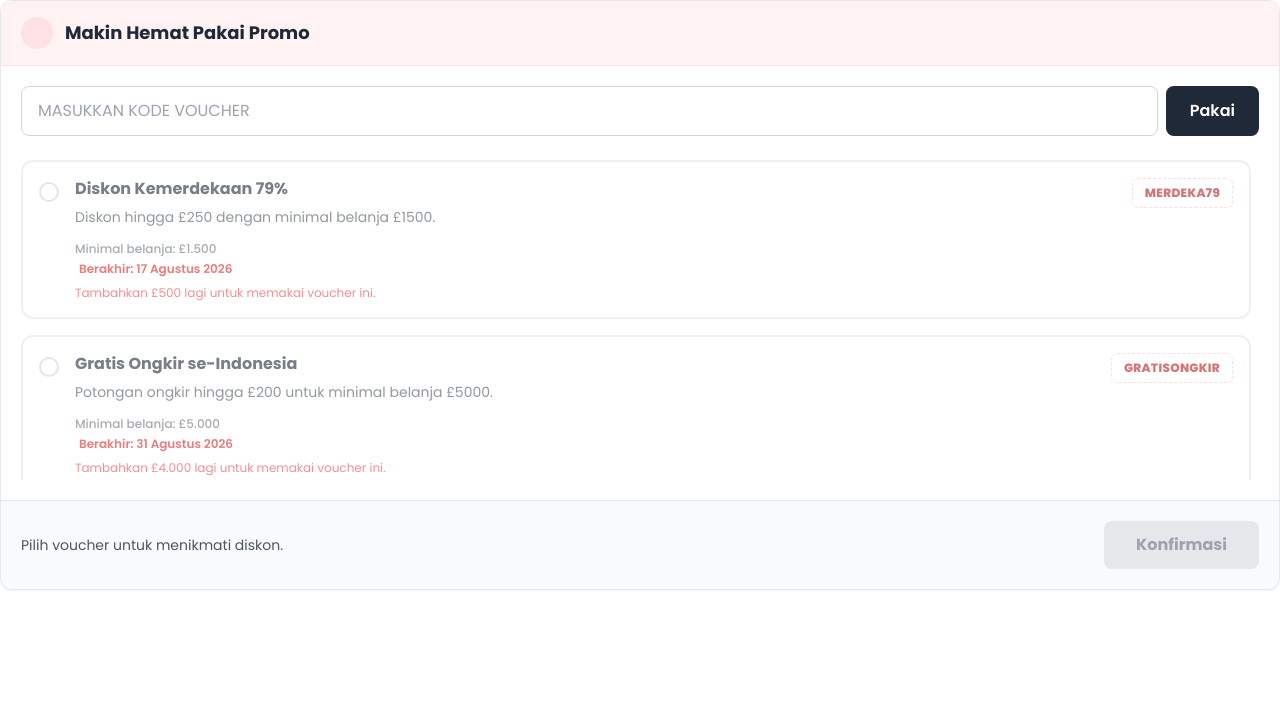
Test: CheckoutVoucher › blocks voucher if amount is too low
In the field with placeholder "Masukkan kode Voucher": x=589, y=111 left=21, top=86, right=1158, bottom=136, type "MERDEKA79"
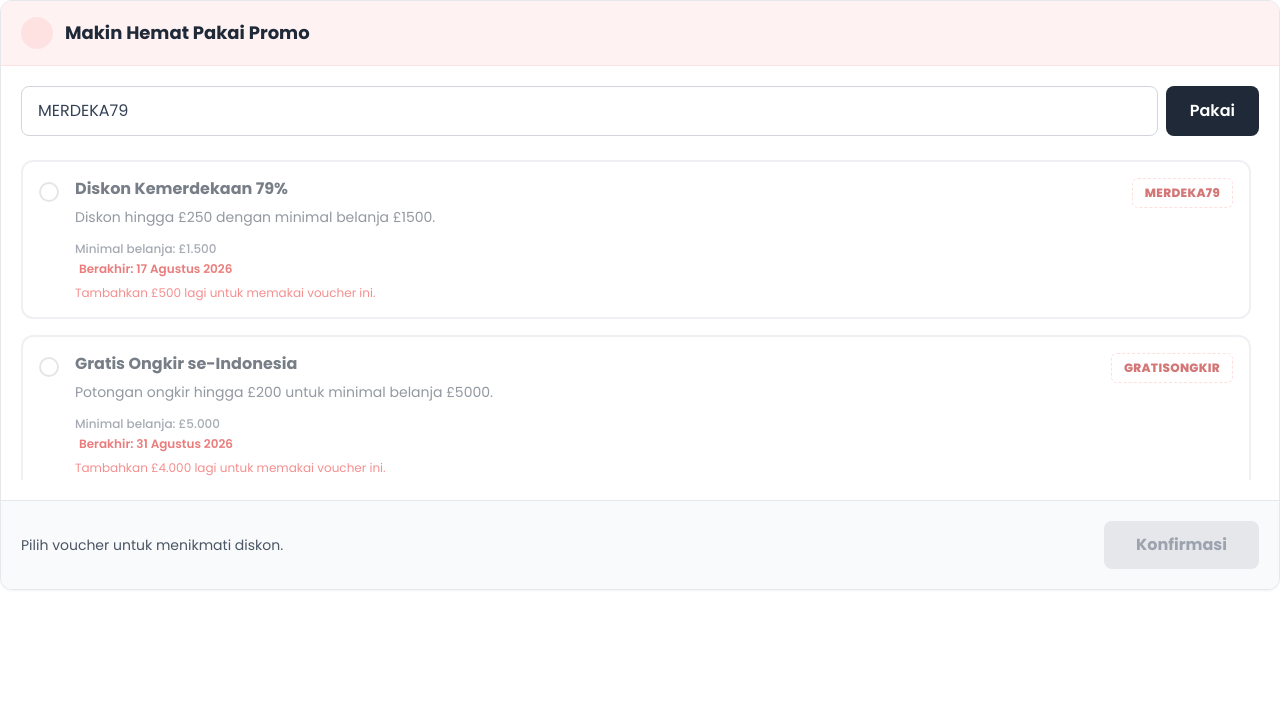
Click the button "Pakai": x=1212, y=111 left=1166, top=86, right=1259, bottom=136
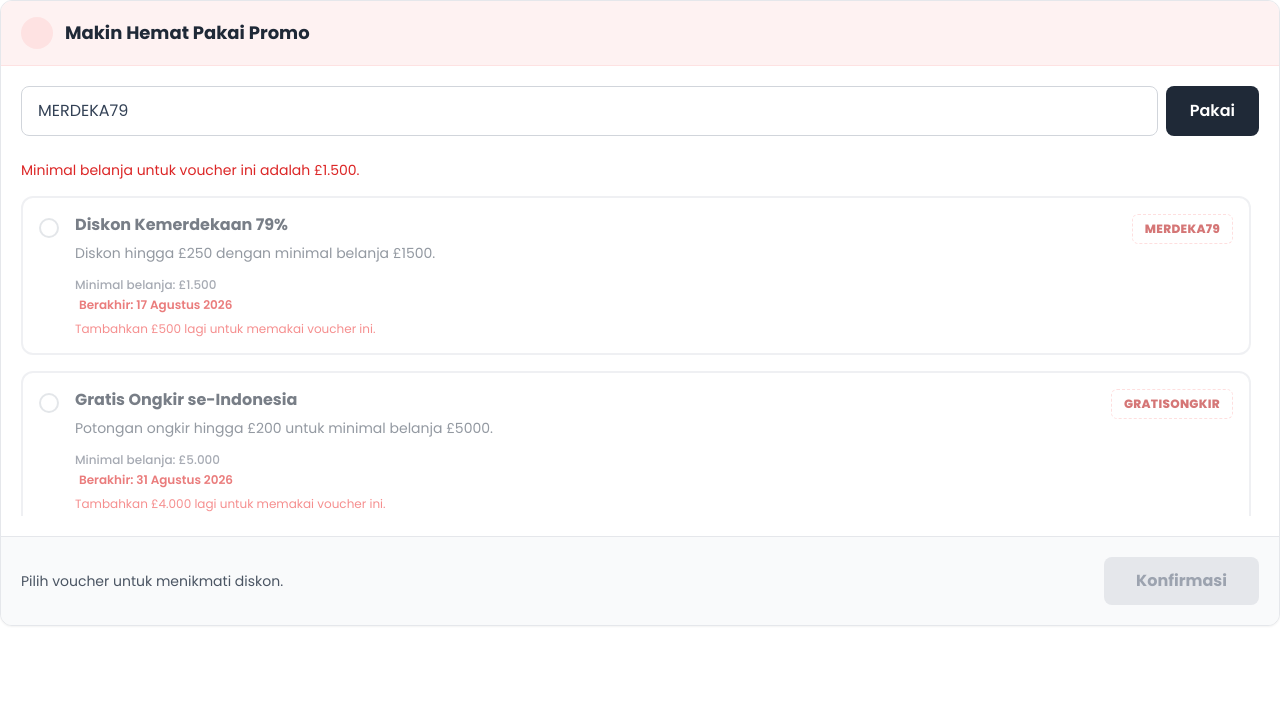
Check: the text "Minimal belanja untuk voucher ini adalah £1.500." is shown, box left=21, top=160, right=360, bottom=180
